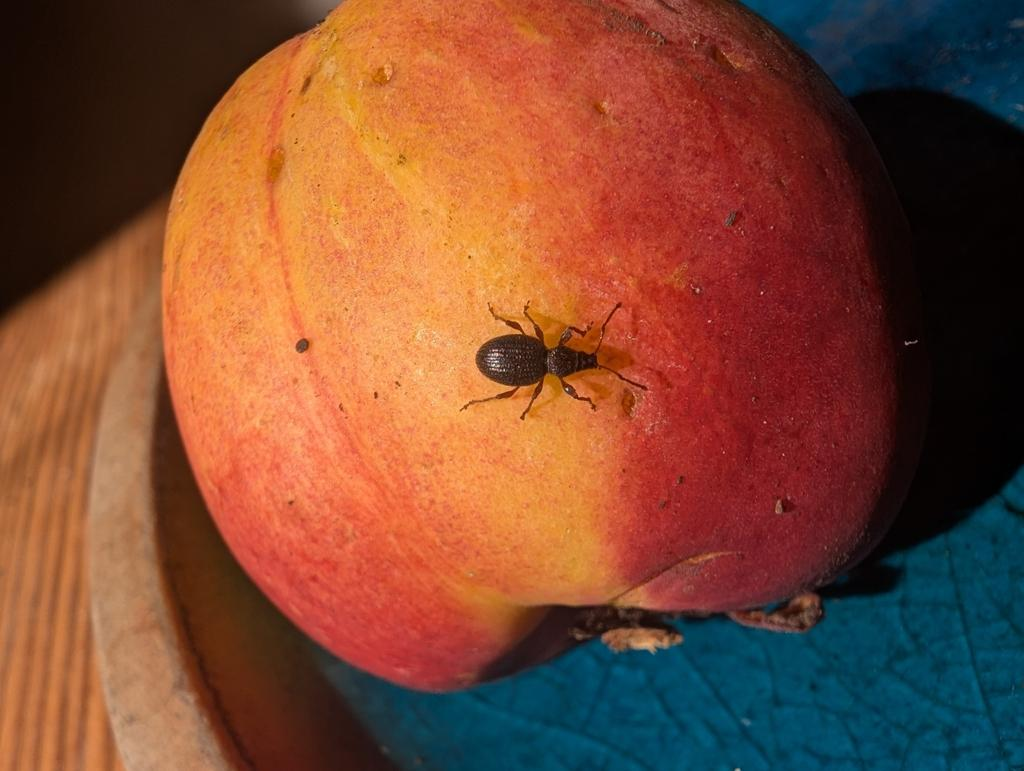weevils: (436, 270, 673, 467)
